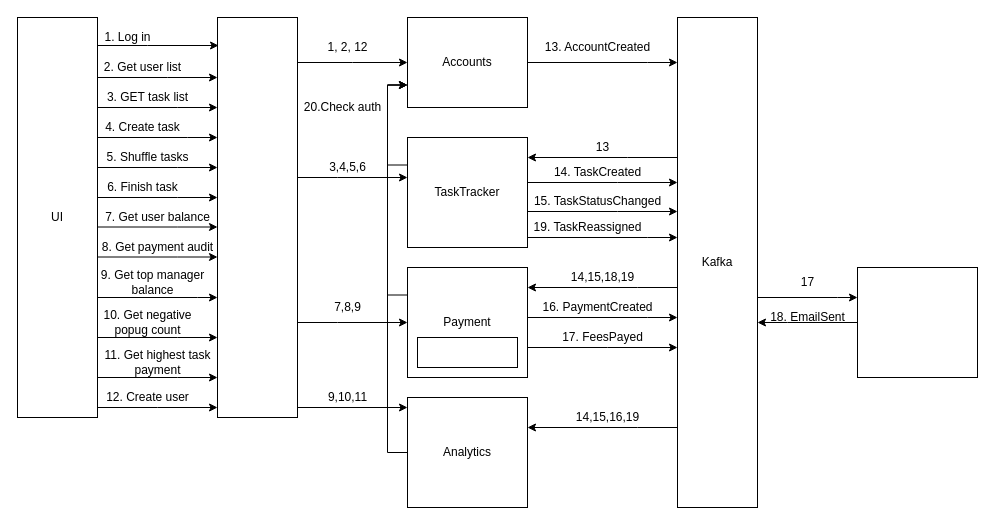
The diagram is 995 pixels wide and 525 high, and some of its shapes have lost their labels. Here are the shapes that lost their labels. From the top down, the centre of each, then its label:
point (257, 217): NGINX
point (917, 322): EmailNotifier
point (467, 352): Timer Payment worker
